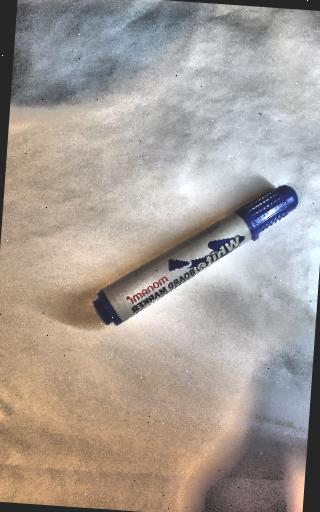marcador azul: (94, 185, 299, 325)
